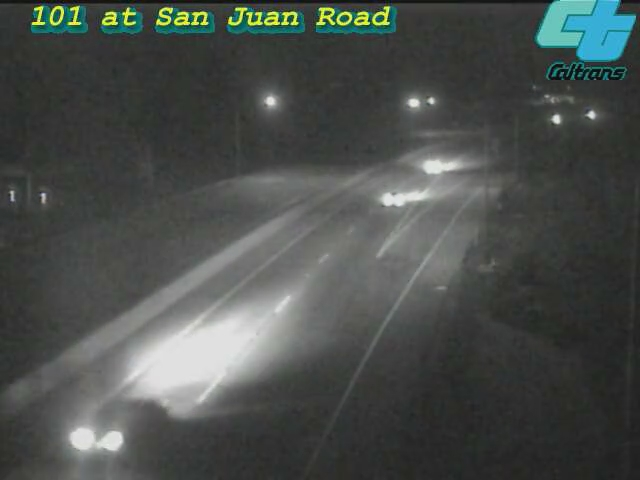vehicle: (61, 371, 171, 480), (391, 126, 471, 206), (352, 159, 432, 239), (532, 93, 582, 143), (567, 91, 617, 141)
